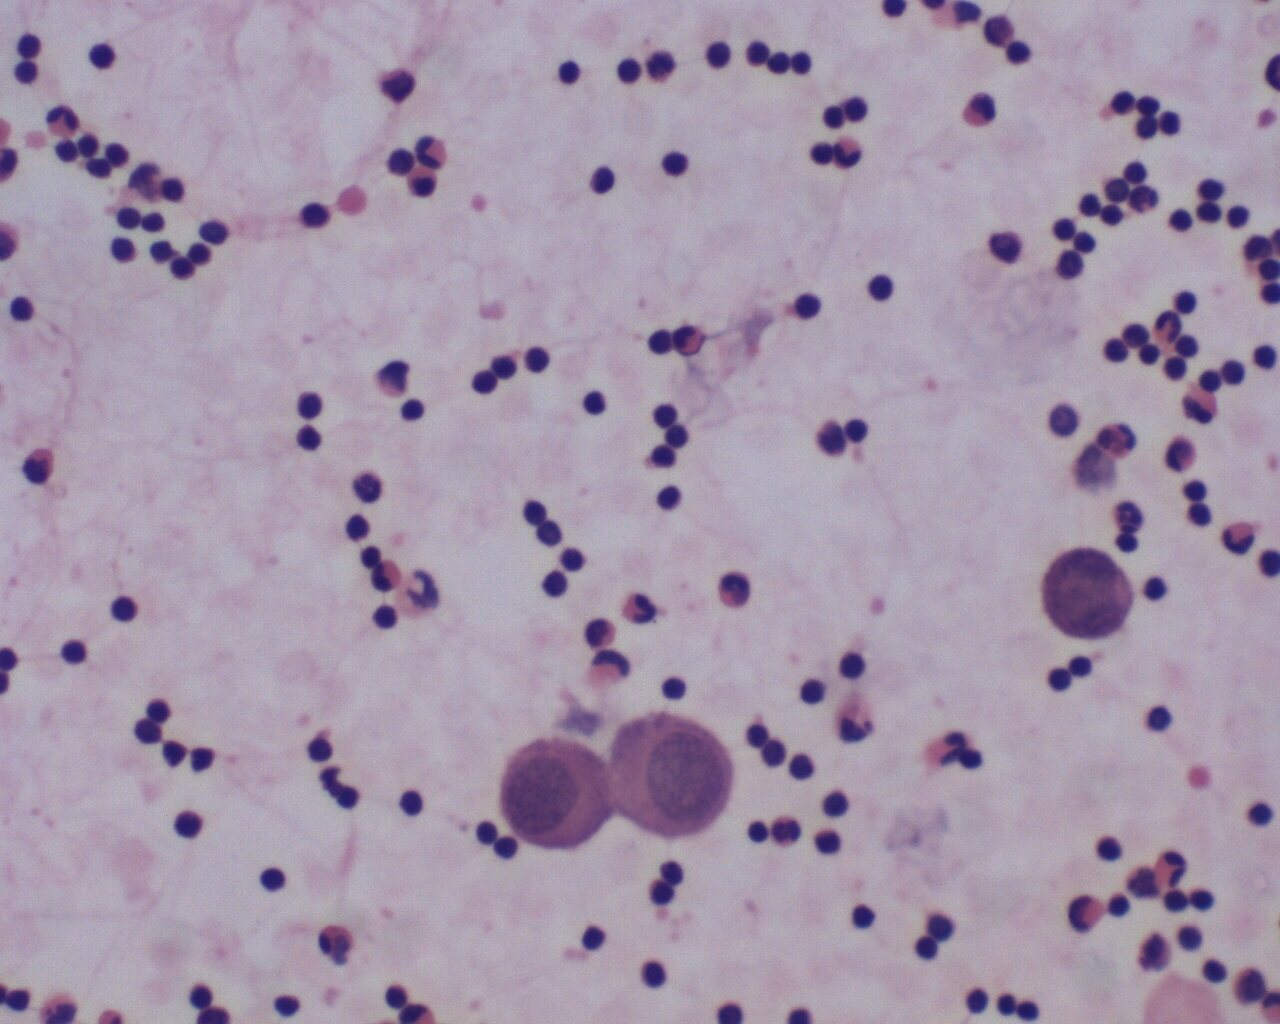ab: (611, 709, 738, 843), (497, 736, 615, 854), (1034, 545, 1139, 639)
lymph: (362, 598, 408, 639), (162, 802, 205, 843), (53, 631, 96, 672), (290, 383, 335, 422), (1135, 703, 1179, 739), (106, 591, 144, 631), (195, 213, 236, 251), (639, 950, 675, 993), (835, 643, 869, 686), (393, 786, 432, 824), (256, 861, 293, 902), (583, 161, 620, 199), (575, 386, 613, 421), (788, 288, 829, 322), (554, 53, 587, 93), (517, 339, 551, 378), (536, 566, 573, 600), (651, 400, 689, 430), (850, 897, 880, 932)
neutro: (41, 96, 84, 139), (830, 132, 868, 178), (411, 127, 451, 170), (619, 585, 658, 629)
